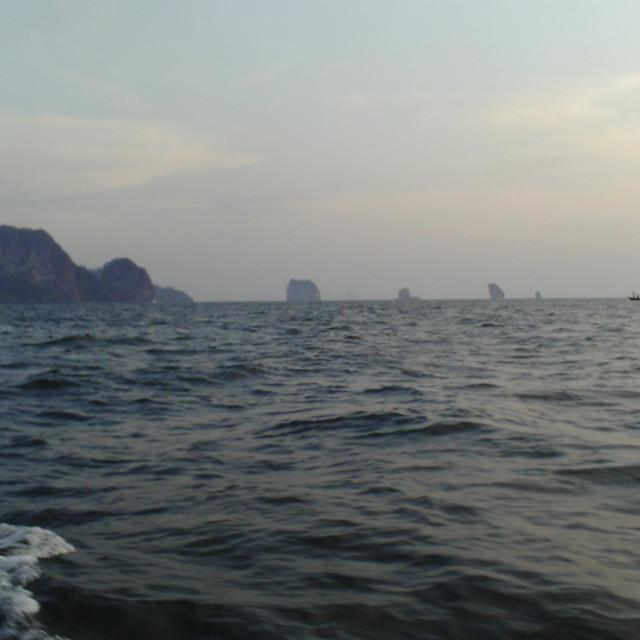island: (0, 205, 197, 317)
